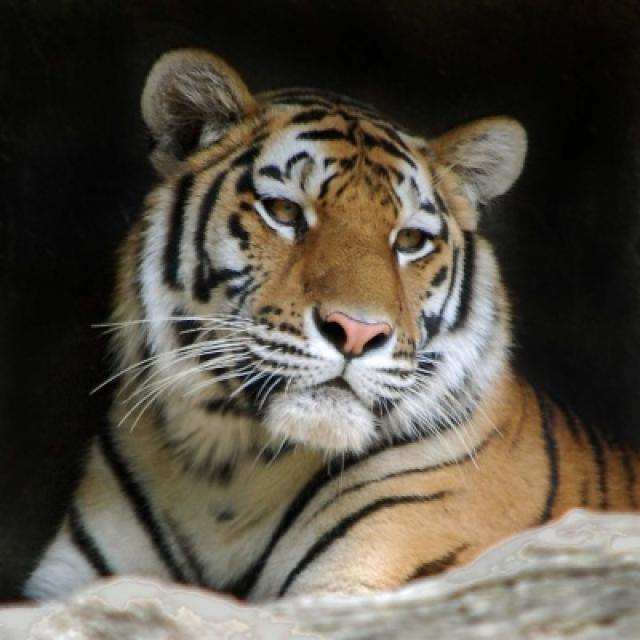Tiger: (26, 50, 638, 600)
